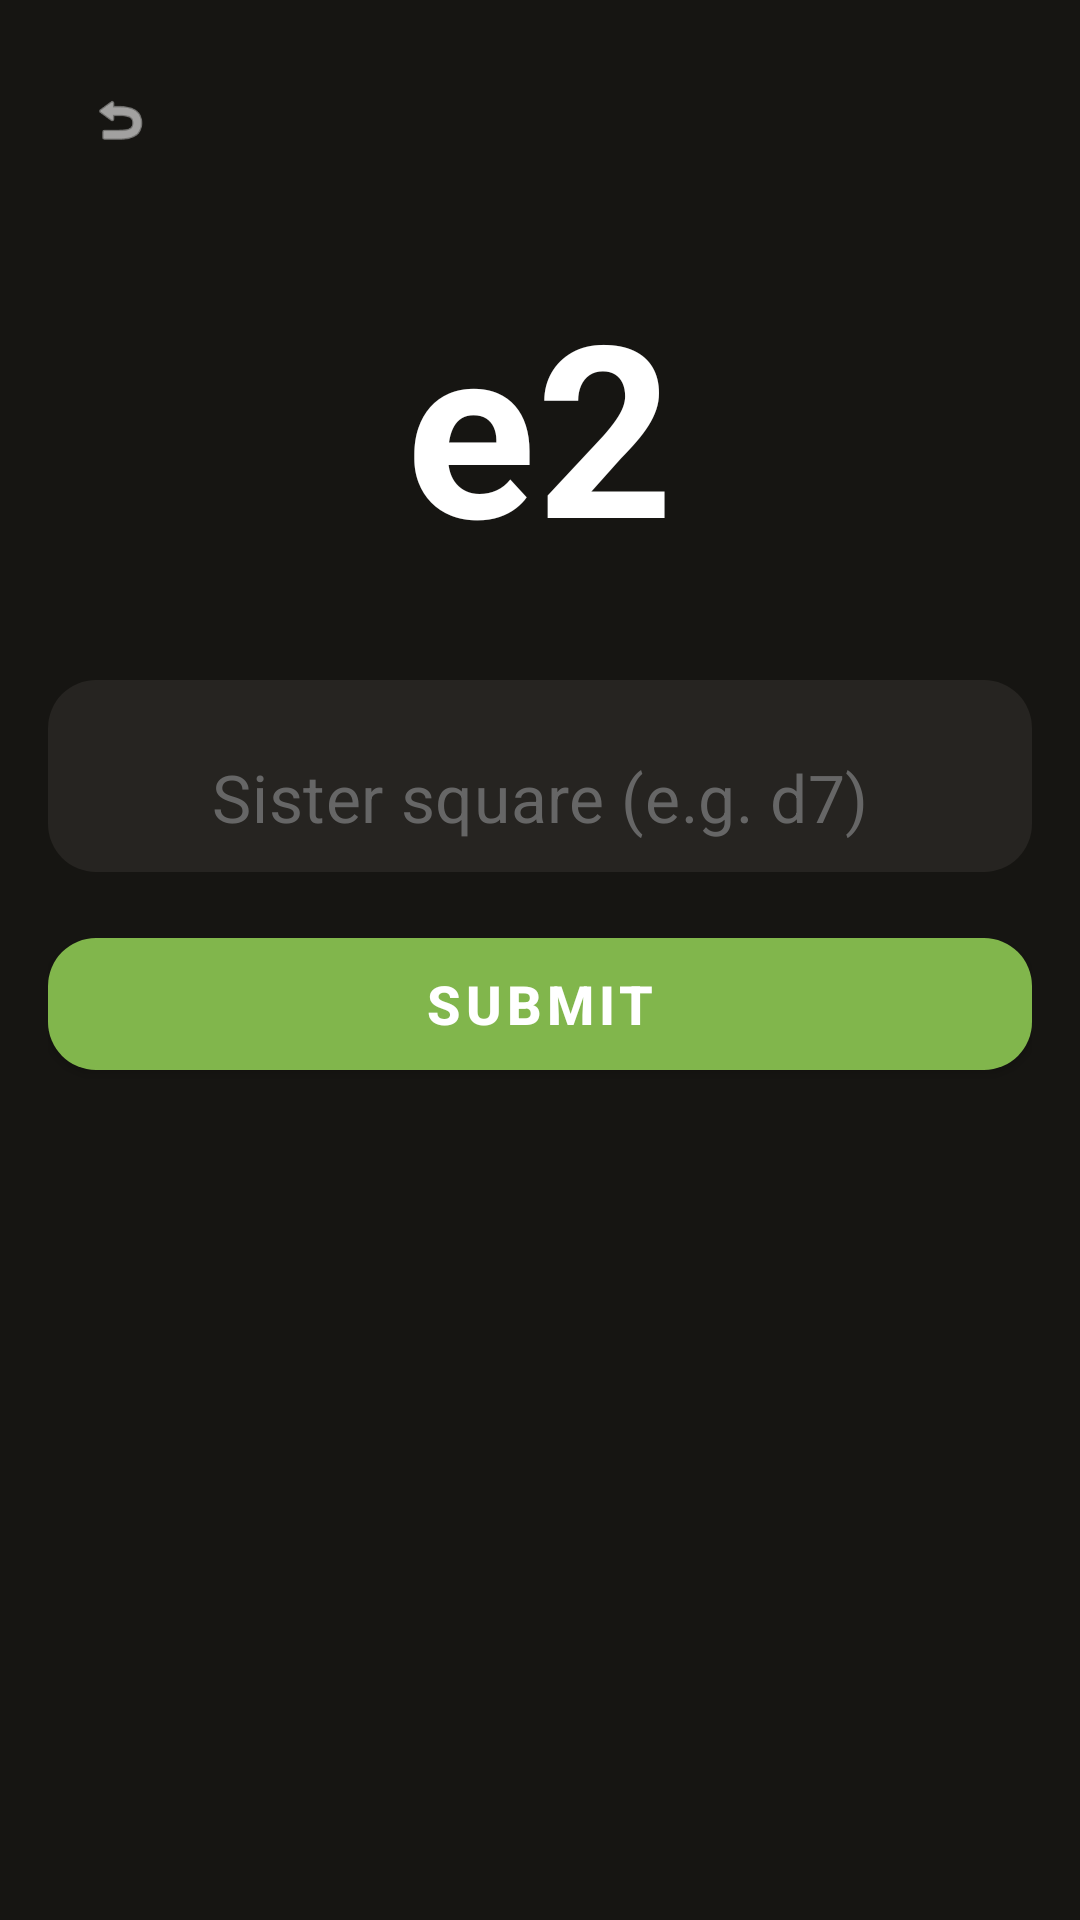

Icons on this 1080×1920 Android screen, each with the point to tap as point (x, y):
Back: point (120, 120)
